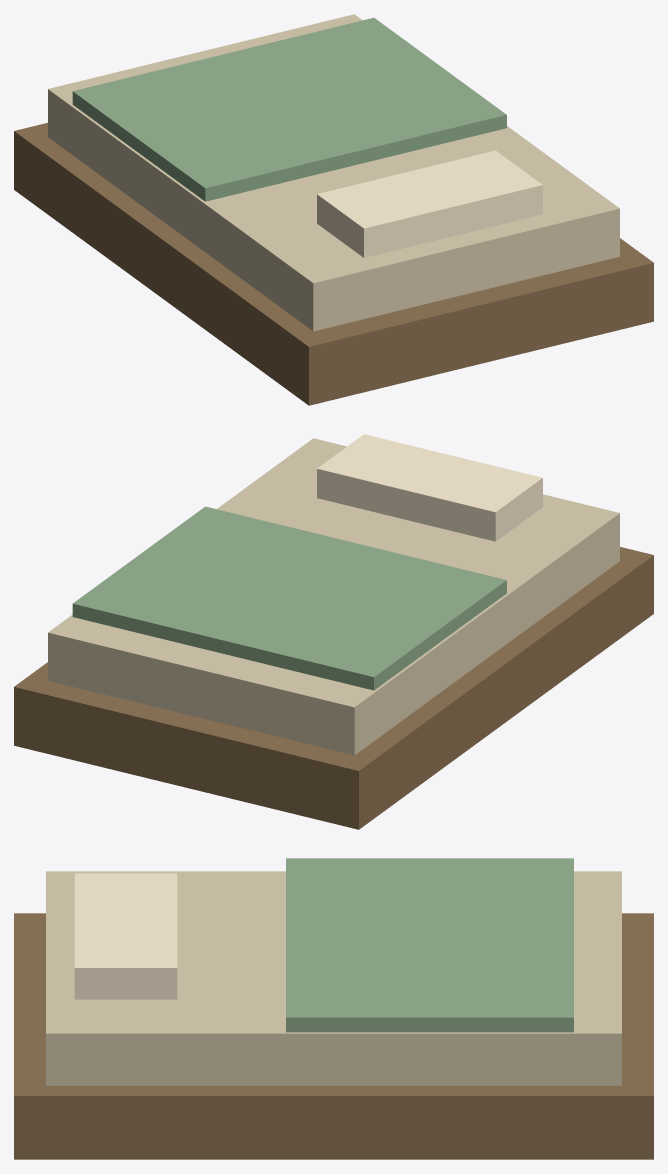
The model's file is bed.glb.
The picture shows the model from 3 angles, top to bottom: view 1: azimuth 30°, elevation 25°; view 2: azimuth 150°, elevation 25°; view 3: azimuth 270°, elevation 25°; orthographic projection. The views are drawn at different scales.
Parts seen in each view (by area): view 1: Mattress, Frame, Blanket, Pillow; view 2: Mattress, Frame, Blanket, Pillow; view 3: Mattress, Frame, Blanket, Pillow.
Boxes of the visible parts, x1,y1,x2,y2 form: Mattress: (48,14,619,331); Frame: (14,123,653,405); Blanket: (72,17,506,201); Pillow: (317,150,542,257); Mattress: (48,438,619,755); Frame: (14,547,653,829); Blanket: (72,506,506,690); Pillow: (317,434,542,541); Mattress: (46,871,621,1085); Frame: (14,913,653,1159); Blanket: (286,858,573,1032); Pillow: (74,873,177,999).
Bounding box in the file's own units: 1.35 × 0.51 × 2.
